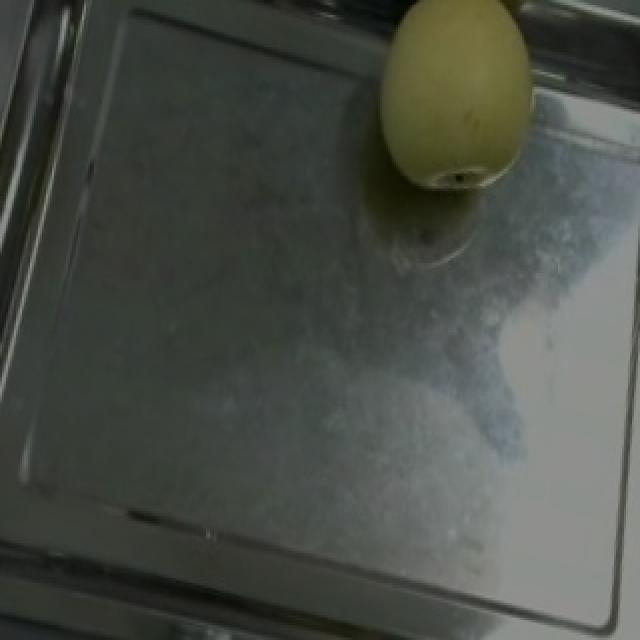Fruit: (346, 0, 562, 221)
